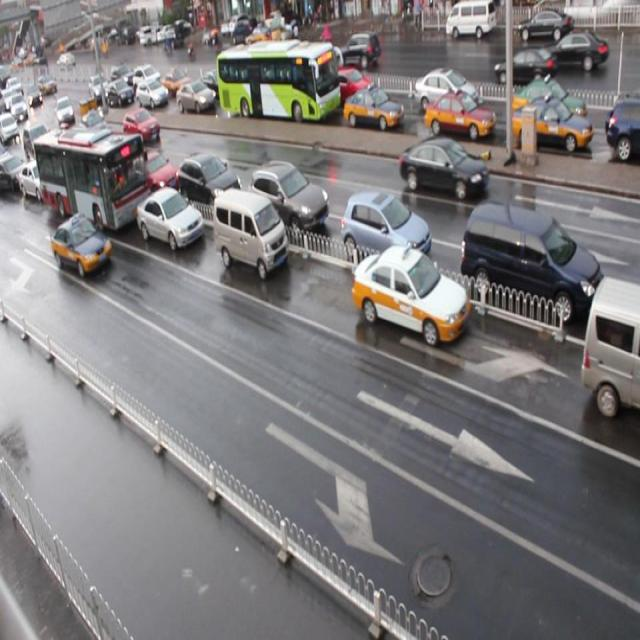car: (352, 242, 468, 348), (341, 190, 431, 274), (398, 136, 488, 202), (248, 160, 329, 233), (512, 97, 591, 155), (137, 186, 204, 250), (177, 150, 243, 210), (51, 216, 112, 277), (512, 78, 587, 127), (422, 92, 494, 140), (412, 68, 479, 118), (344, 89, 404, 133), (603, 103, 640, 165), (134, 146, 180, 194), (326, 65, 374, 100), (20, 157, 57, 201), (85, 134, 124, 173), (123, 107, 160, 145), (177, 80, 214, 114), (23, 121, 52, 163), (1, 152, 28, 194), (34, 130, 63, 169), (137, 78, 170, 110), (162, 70, 194, 97), (201, 70, 228, 101), (82, 109, 108, 138), (132, 64, 160, 90), (624, 91, 640, 134), (107, 79, 134, 104)
truck: (463, 197, 604, 327), (580, 273, 640, 418), (213, 188, 287, 278)
van: (34, 125, 154, 234), (217, 44, 341, 125)
